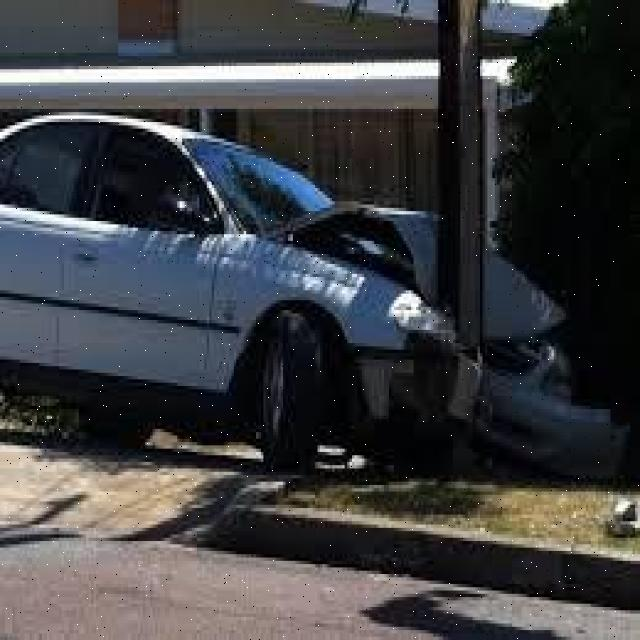moderate: (0, 102, 613, 475)
